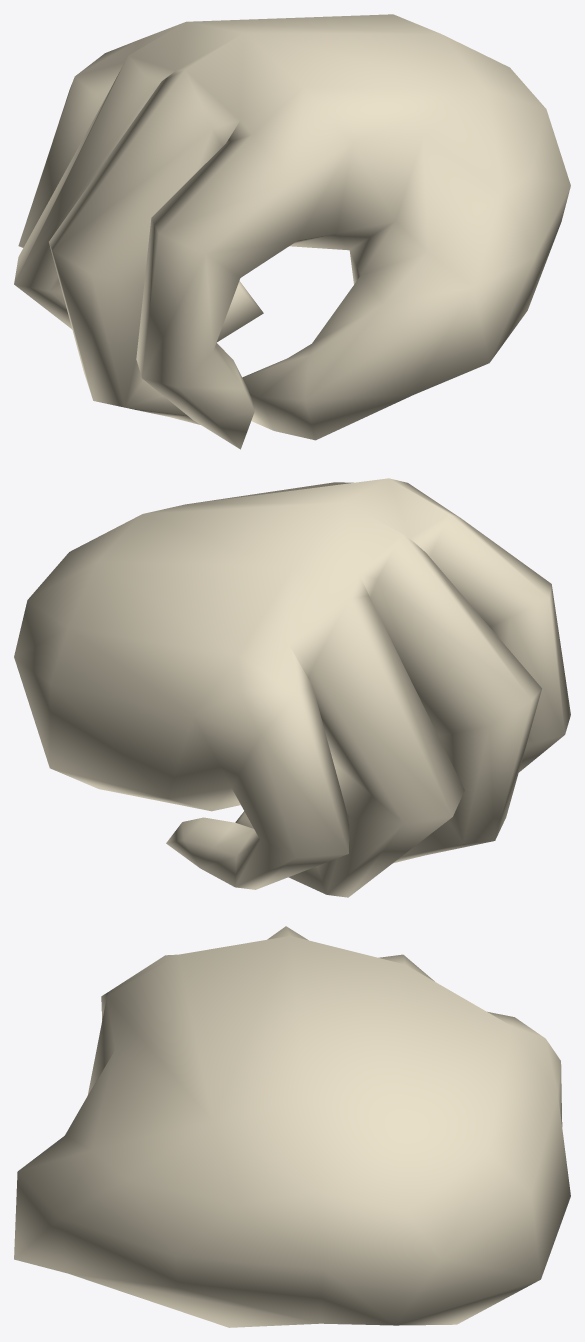
The model's file is F2_UI_3D_Hand_Catch.dae.
The picture shows the model from 3 angles, top to bottom: view 1: azimuth 30°, elevation 25°; view 2: azimuth 150°, elevation 25°; view 3: azimuth 270°, elevation 25°; orthographic projection. The views are drawn at different scales.
Parts seen in each view (by area): view 1: vsn_mesh_0_; view 2: vsn_mesh_0_; view 3: vsn_mesh_0_.
Part boxes in pixels (left/top/right/bottom): vsn_mesh_0_: left=14, top=14, right=570, bottom=449; vsn_mesh_0_: left=14, top=478, right=570, bottom=897; vsn_mesh_0_: left=14, top=926, right=570, bottom=1327.
Size of the model in its own units: 1.19 by 0.8782 by 1.13.
1 material, 1 textured.
